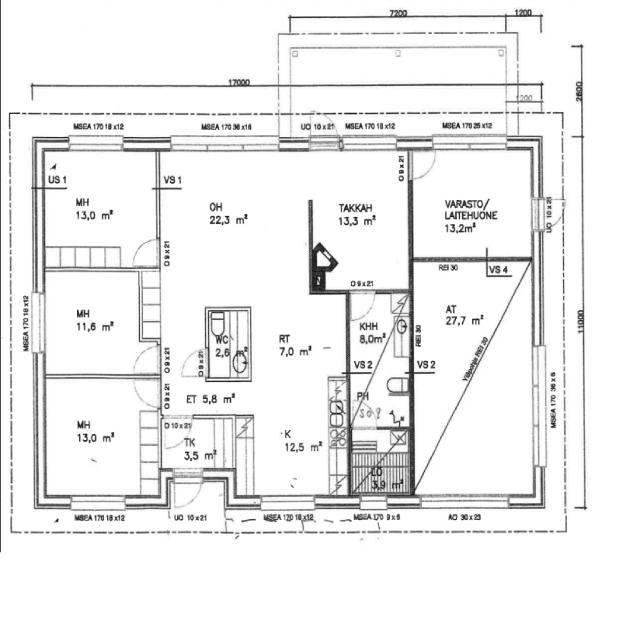door: (304, 114, 344, 154), (530, 193, 565, 232), (170, 471, 204, 511), (160, 413, 194, 453), (128, 232, 163, 270), (407, 146, 438, 182), (346, 288, 377, 323), (131, 374, 162, 408), (131, 343, 162, 377), (353, 402, 379, 431)
window: (525, 353, 549, 474), (165, 136, 284, 156), (422, 489, 513, 512), (30, 281, 51, 361), (64, 131, 130, 156), (432, 134, 511, 154), (63, 491, 132, 512), (256, 492, 321, 512), (340, 134, 402, 154), (355, 491, 393, 507)
zone: (239, 296, 350, 500), (39, 144, 158, 273), (39, 376, 161, 500), (310, 146, 411, 294), (410, 144, 538, 260), (40, 269, 159, 377), (346, 293, 412, 432), (163, 415, 241, 474), (349, 425, 411, 496), (206, 306, 253, 383), (517, 83, 543, 102)
